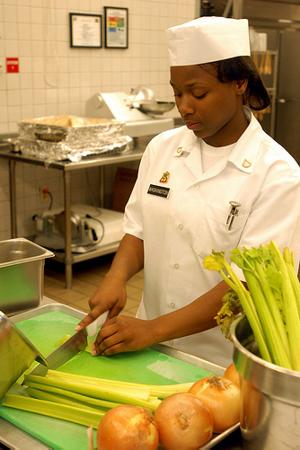person: (75, 17, 300, 373)
